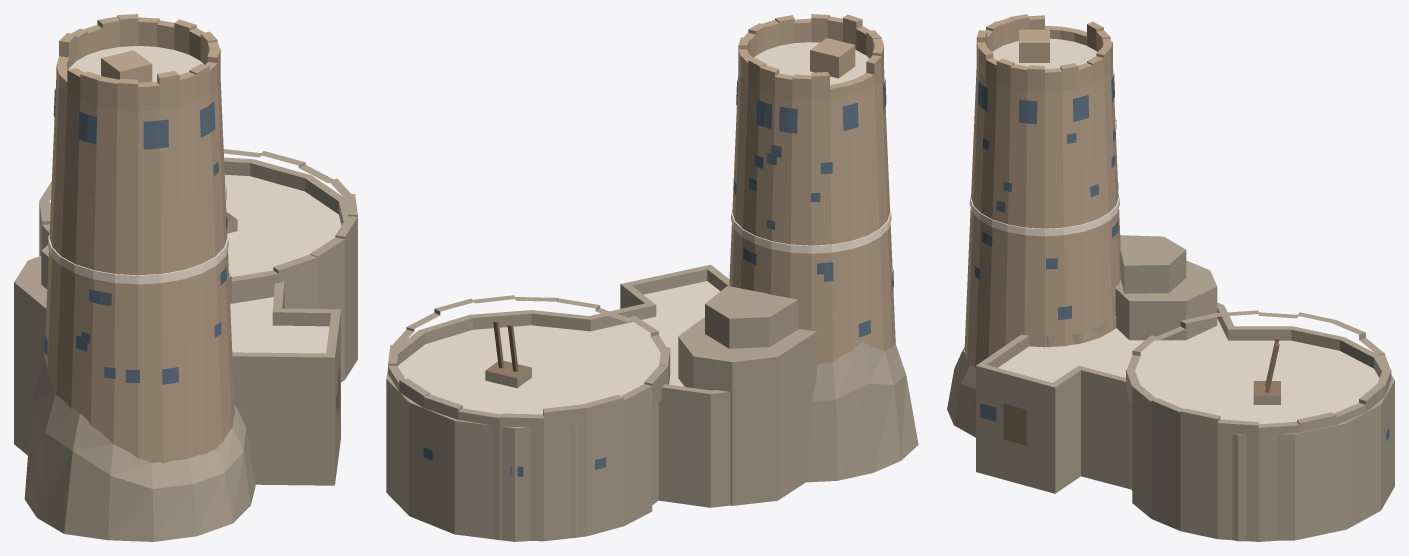
File: grand-canyon-desert-view-watchtower.glb
3 renders of one model, left to right at view 1: azimuth 30°, elevation 25°; view 2: azimuth 150°, elevation 25°; view 3: azimuth 270°, elevation 25°, orthographic. The views are drawn at different scales.
Parts seen in each view (by area): view 1: Desert View Watchtower; view 2: Desert View Watchtower; view 3: Desert View Watchtower.
Boxes of the visible parts, x1=… form: Desert View Watchtower: x1=14, y1=14, x2=357, y2=541; Desert View Watchtower: x1=386, y1=14, x2=918, y2=541; Desert View Watchtower: x1=947, y1=14, x2=1394, y2=541.
Size of the model in its own units: 23.84 by 23.79 by 25.97.
